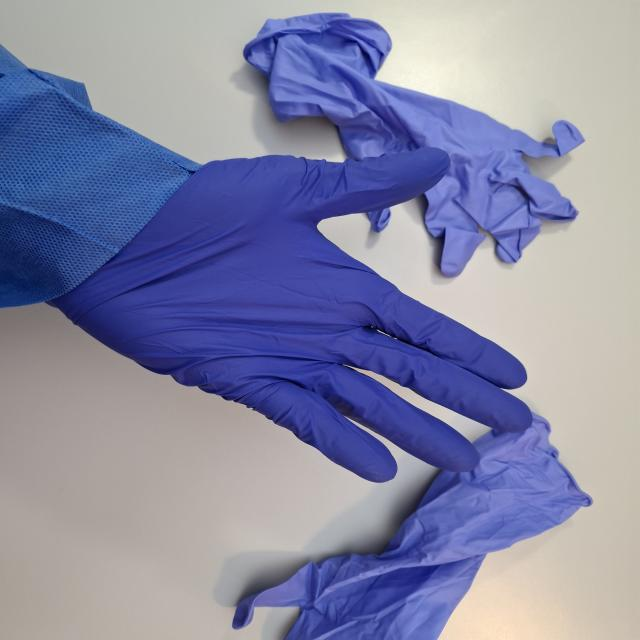glove_on: (48, 145, 536, 485)
